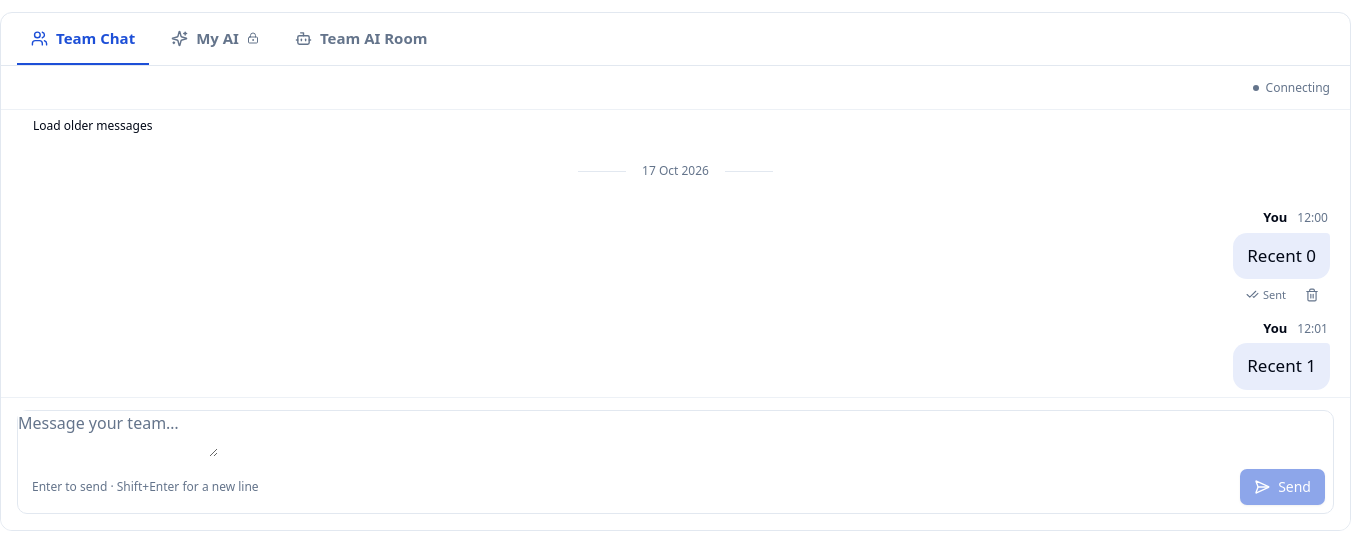
Test case: loads older team history without dropping recent messages
Click the button "Load older messages".
click(93, 126)  # box [21,110,164,142]
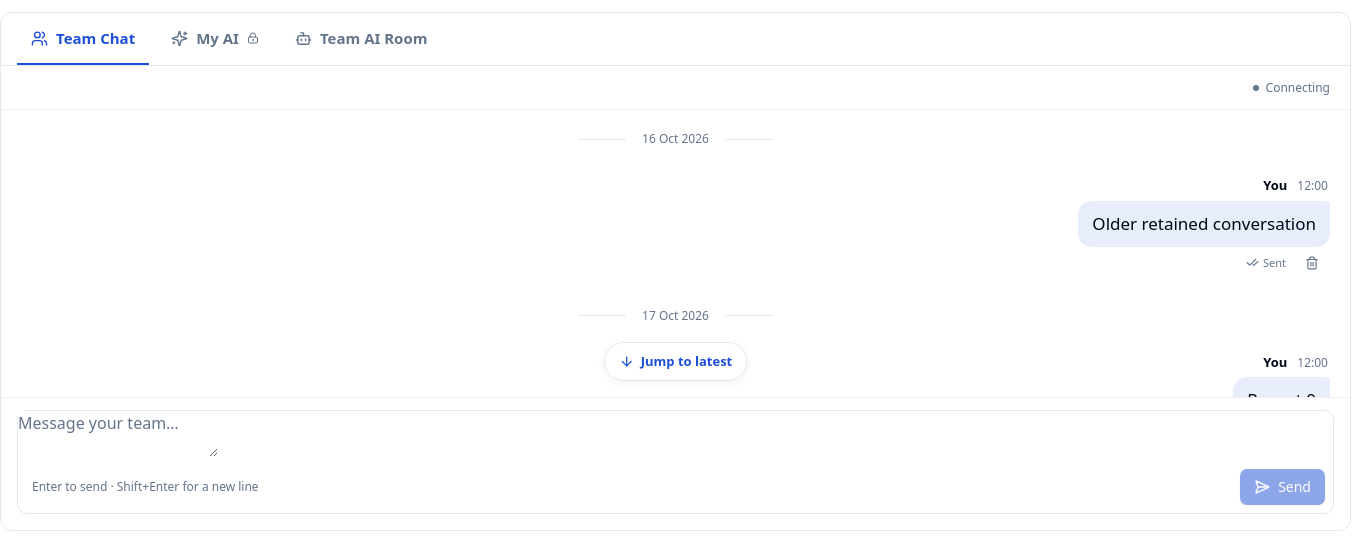
Result: the text "Older retained conversation" is shown at [1092,210,1316,237]
